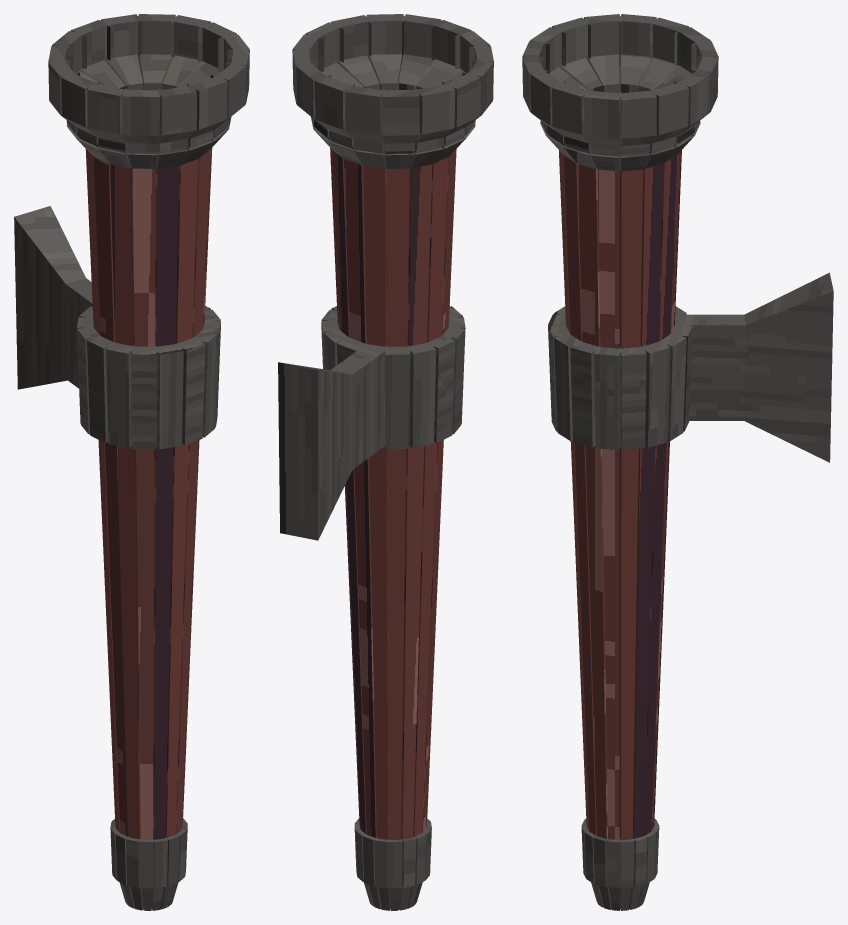
File: SM_Wall_Torch(Updated).fbx
The picture shows the model from 3 angles, left to right: view 1: azimuth 30°, elevation 25°; view 2: azimuth 150°, elevation 25°; view 3: azimuth 270°, elevation 25°; orthographic projection.
Visible parts, largest first — view 1: Object001, Object002, Object003; view 2: Object001, Object002, Object003; view 3: Object001, Object003, Object002.
Part boxes in pixels (x1,y1,x2,y2): Object001: (85, 148, 212, 839); Object002: (48, 14, 249, 910); Object003: (14, 206, 220, 449); Object001: (330, 148, 456, 839); Object002: (292, 14, 493, 910); Object003: (278, 305, 465, 540); Object001: (559, 150, 681, 839); Object003: (548, 272, 833, 462); Object002: (522, 14, 718, 910).
Size of the model in its own units: 19.35 by 88.31 by 29.53.
2 materials, 2 textured.
